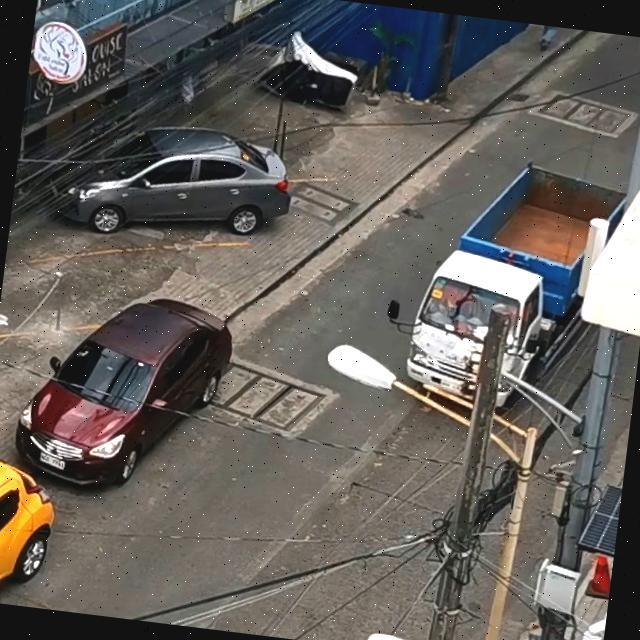Truck: (403, 154, 608, 412)
